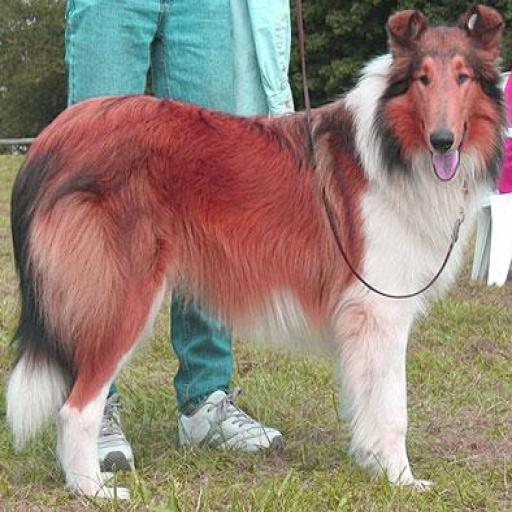dog_face: (388, 4, 498, 179)
